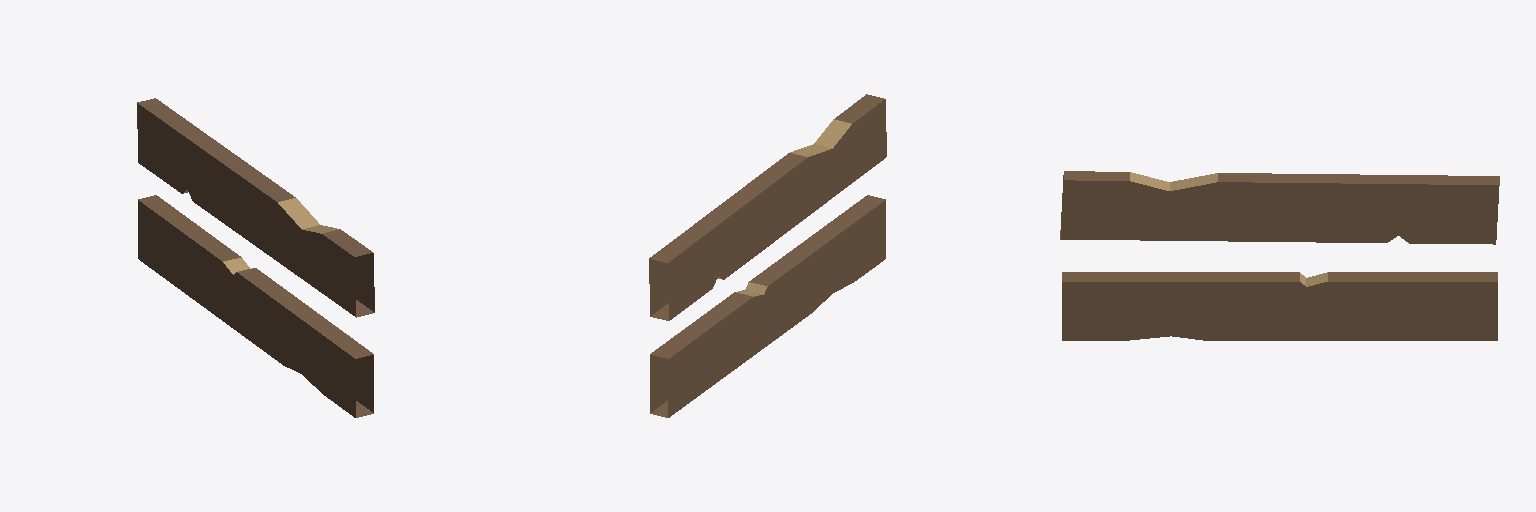
Rendered from Cave_Prop_Support_Wall_Boards_1.obj.
3 renders of one model, left to right at view 1: azimuth 30°, elevation 25°; view 2: azimuth 150°, elevation 25°; view 3: azimuth 270°, elevation 25°, orthographic.
Visible parts, largest first — view 1: object1, object2; view 2: object1, object2; view 3: object1, object2.
Part boxes in pixels (x1,y1,x2,y2): object1: (138, 195, 373, 417); object2: (137, 98, 374, 317); object1: (650, 195, 885, 417); object2: (649, 94, 886, 320); object1: (1062, 272, 1497, 340); object2: (1060, 171, 1499, 244).
Bounding box in the file's own units: 0.1 × 0.8124 × 2.01.